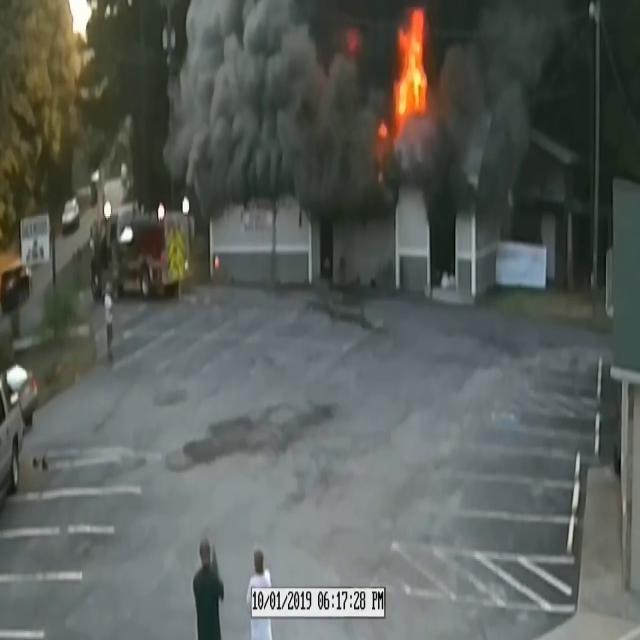Fire: (388, 4, 433, 135)
Smoke: (162, 0, 386, 236), (425, 3, 567, 232)
